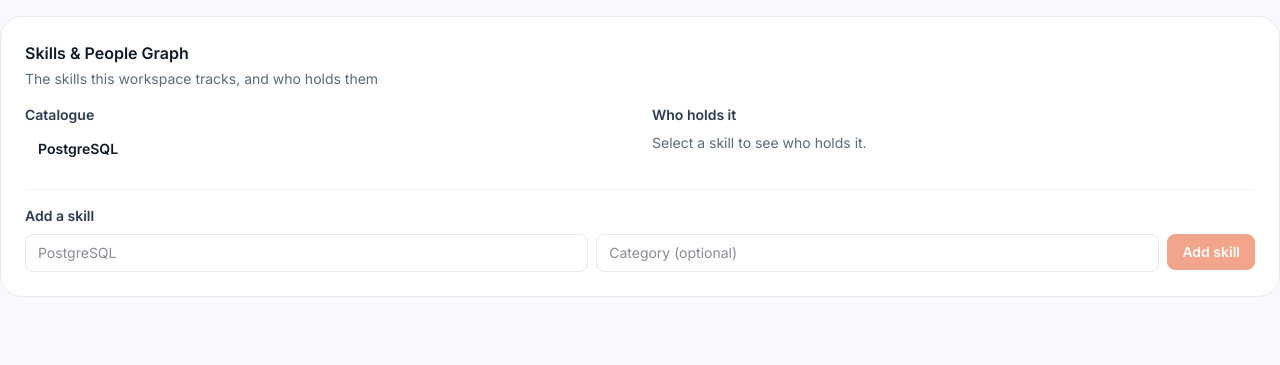
Test: SkillsPanel › says so when nobody holds the selected skill
The image size is (1280, 365).
Click the button "PostgreSQL": (78, 148) [25, 133, 628, 165]
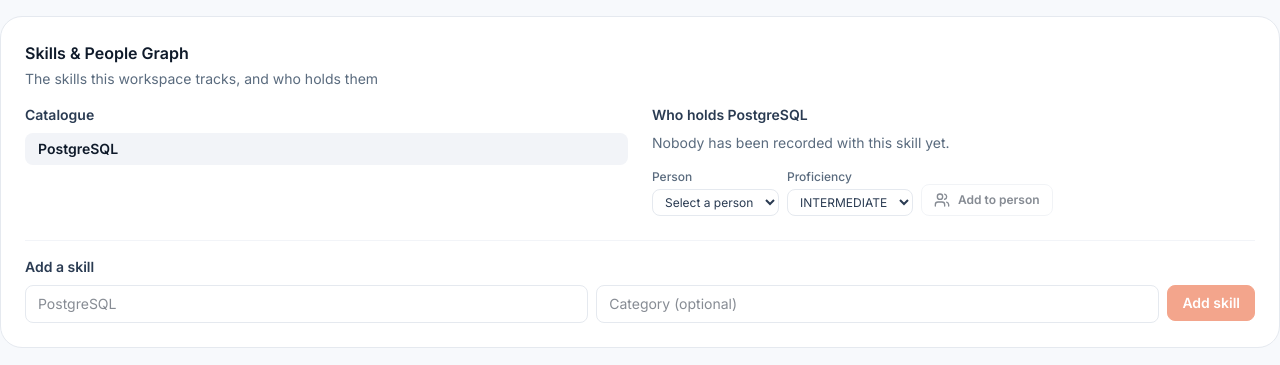
Expected: the text "Nobody has been recorded with this skill yet." is shown, [652, 134, 950, 151]
